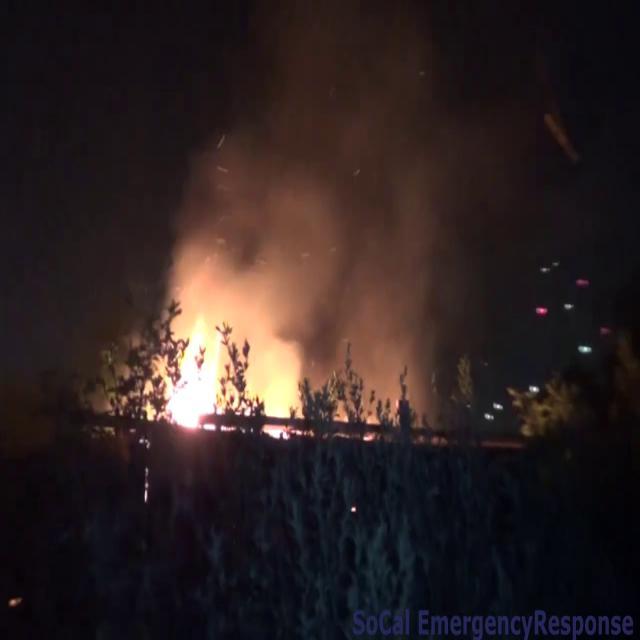Fire: (148, 300, 279, 432)
Smoke: (165, 0, 516, 348)
